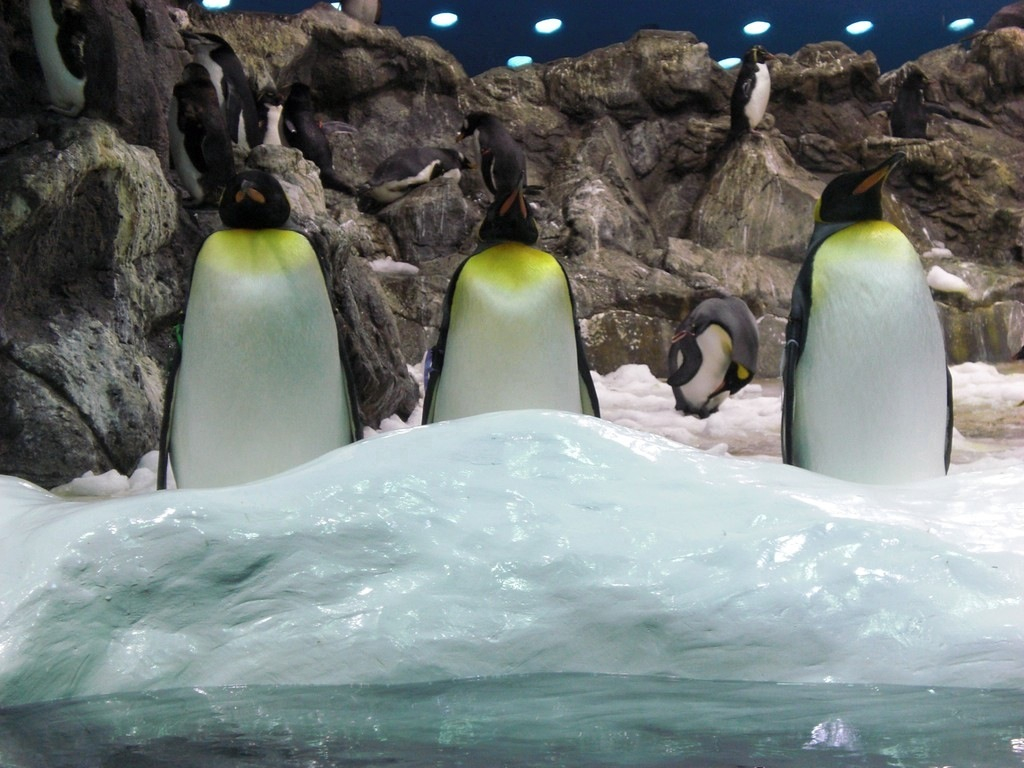penguin: (170, 165, 368, 491), (784, 147, 954, 485), (428, 166, 609, 428)
